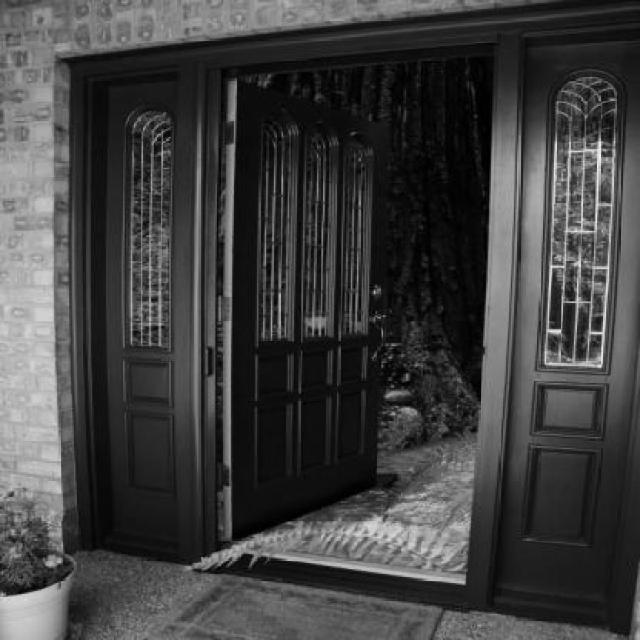door: (196, 45, 509, 588)
